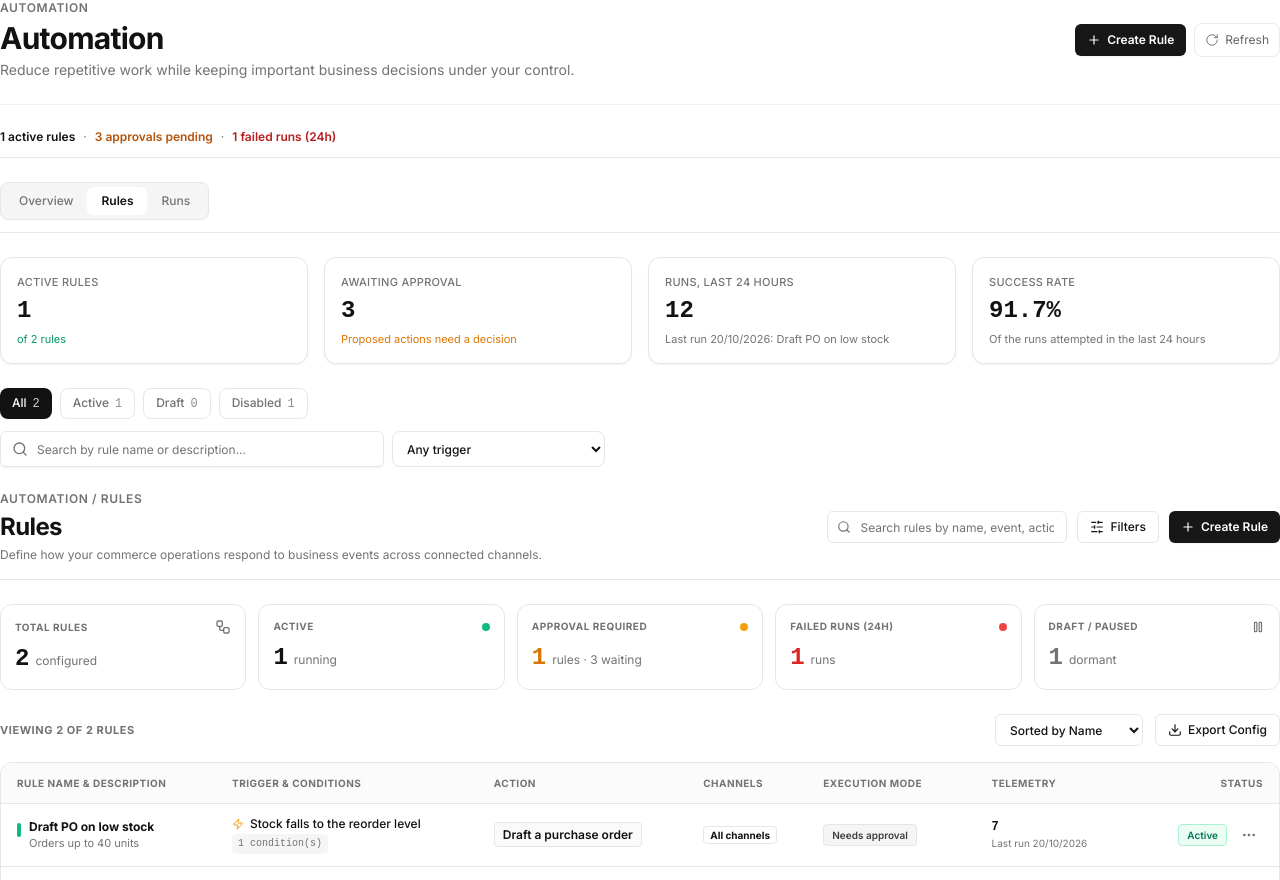
it: AutomationPage builder › shows server field errors on the parameter they belong to
Expected: the button "Draft PO on low stock" is shown, x1=29 y1=819 x2=154 y2=835
Click the 1st button "Create Rule" at (1131, 40), box x1=1075 y1=24 x2=1186 y2=56
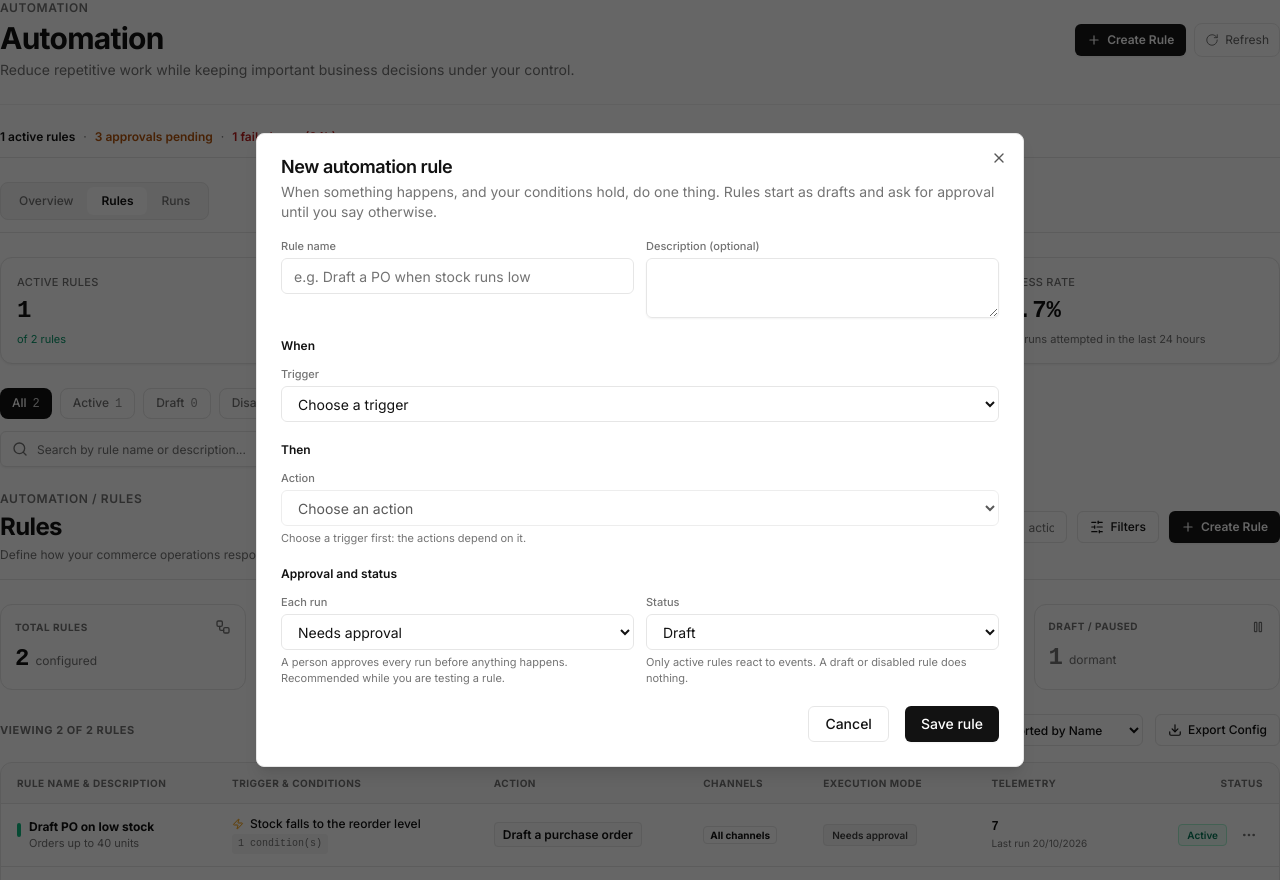
Type "Low stock PO" into the field labelled "Rule name" at (458, 276), box x1=281 y1=258 x2=634 y2=294
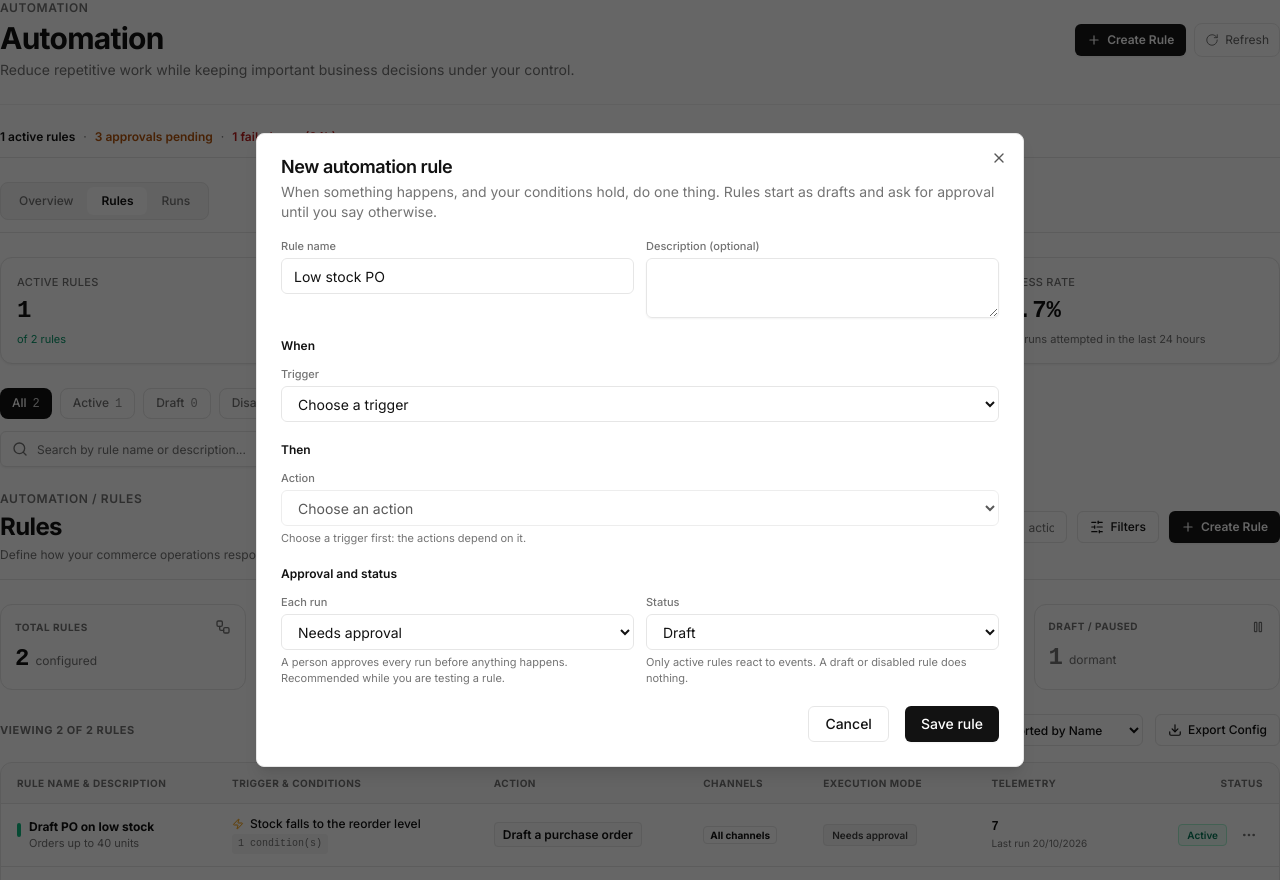
Select "Stock falls to the reorder level" in the dropdown labelled "Trigger" at (640, 404), box x1=281 y1=386 x2=999 y2=422
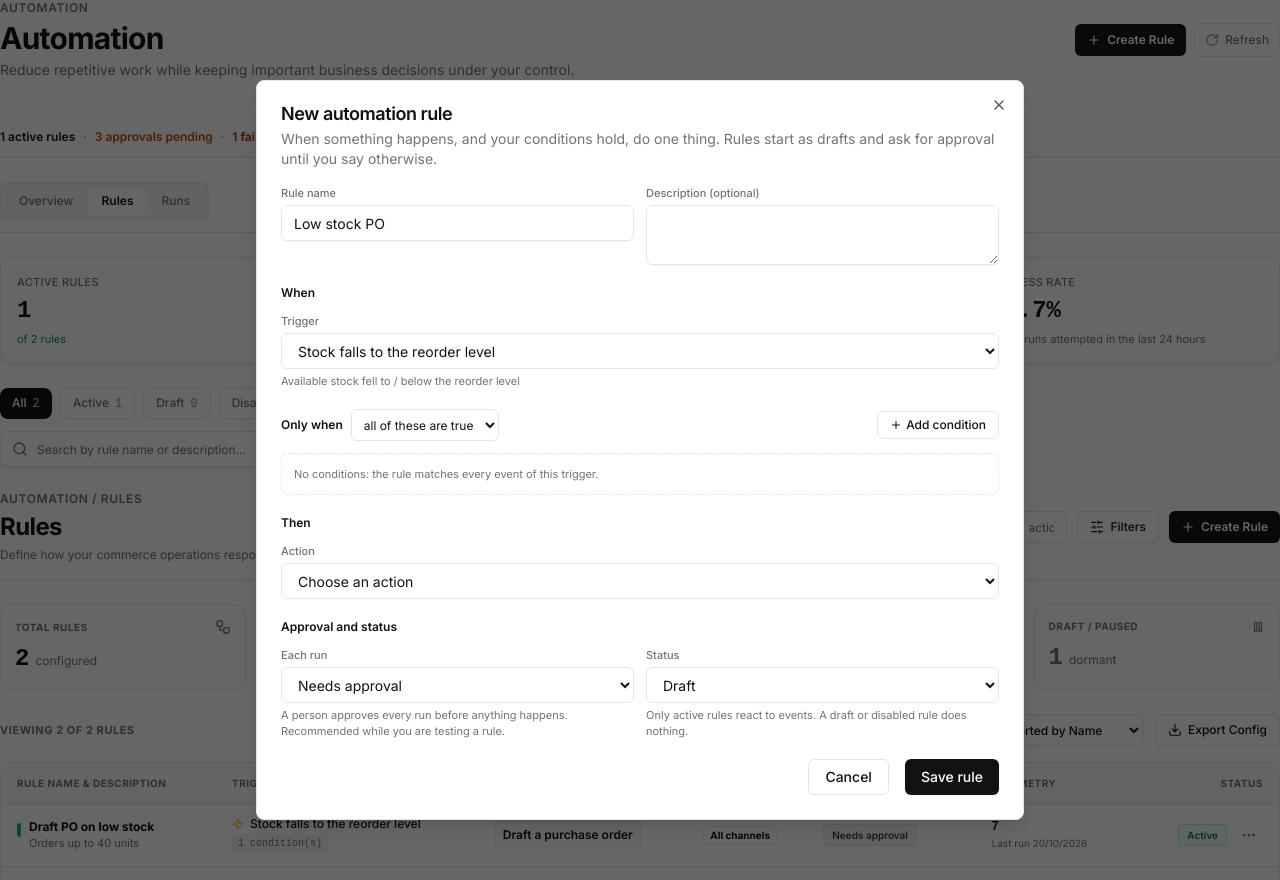
Select "Draft a purchase order" in the dropdown labelled "Action" at (640, 581), box x1=281 y1=563 x2=999 y2=599
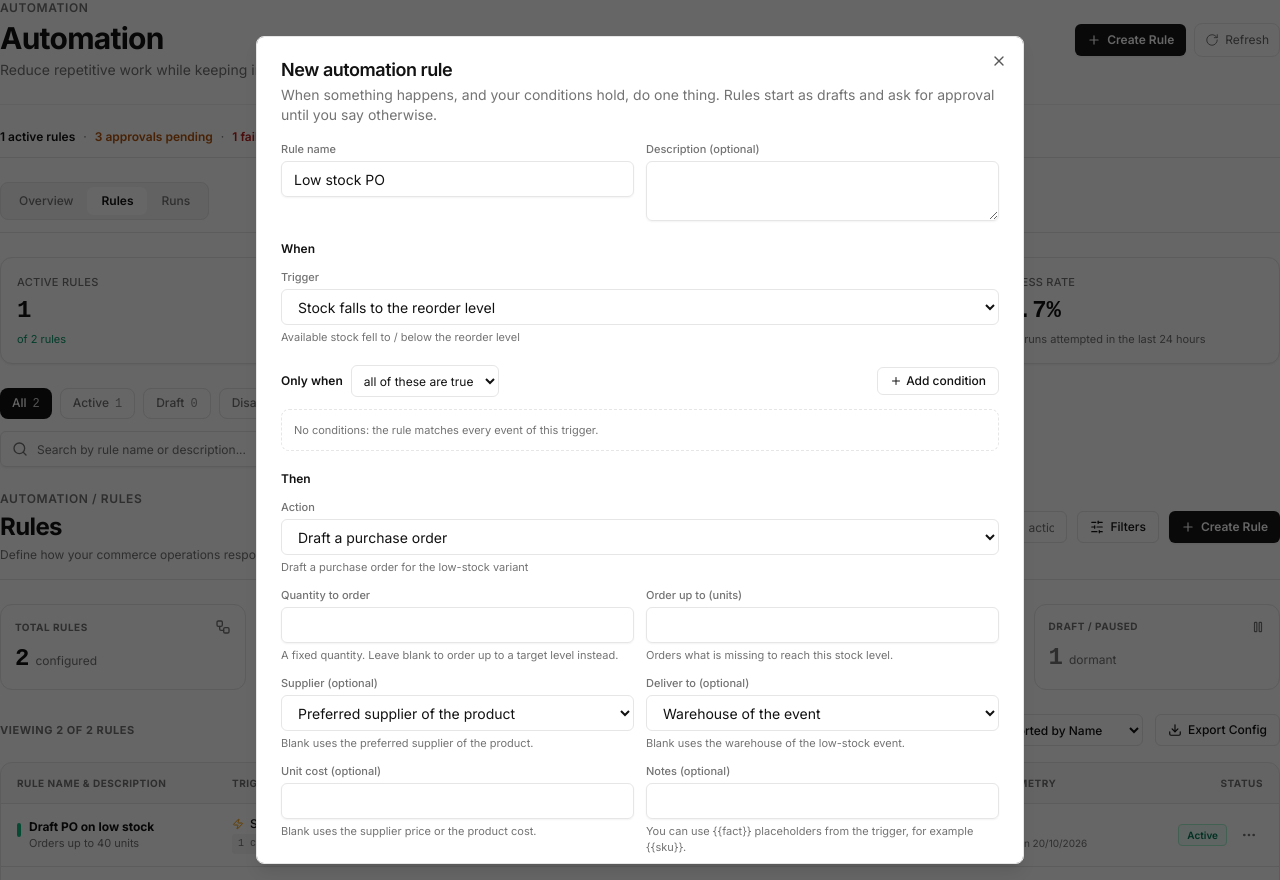
Type "40" into the field labelled "Order up to (units)" at (822, 625), box x1=646 y1=607 x2=999 y2=643
(page scrolled)
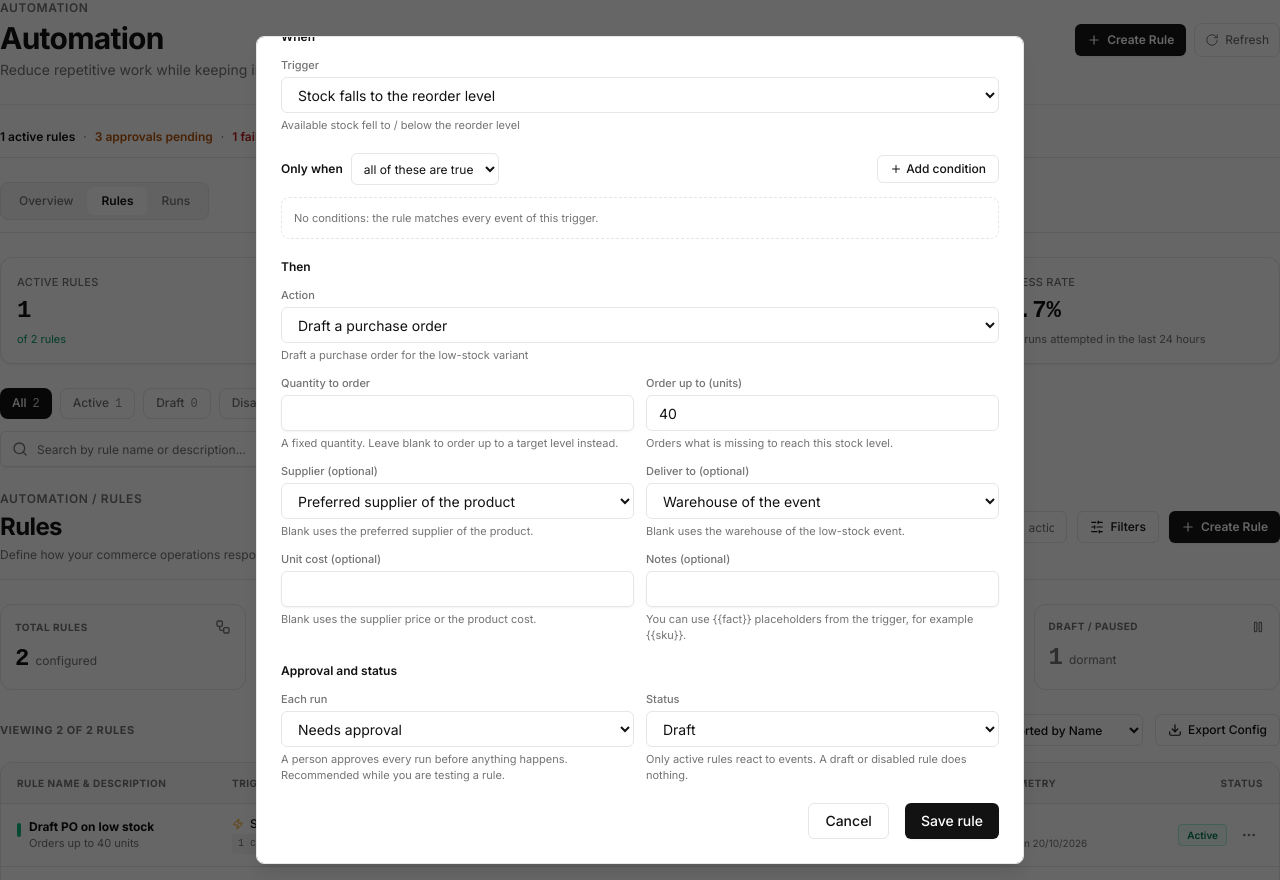
Click the button "Save rule" at (952, 821), box x1=905 y1=803 x2=999 y2=839
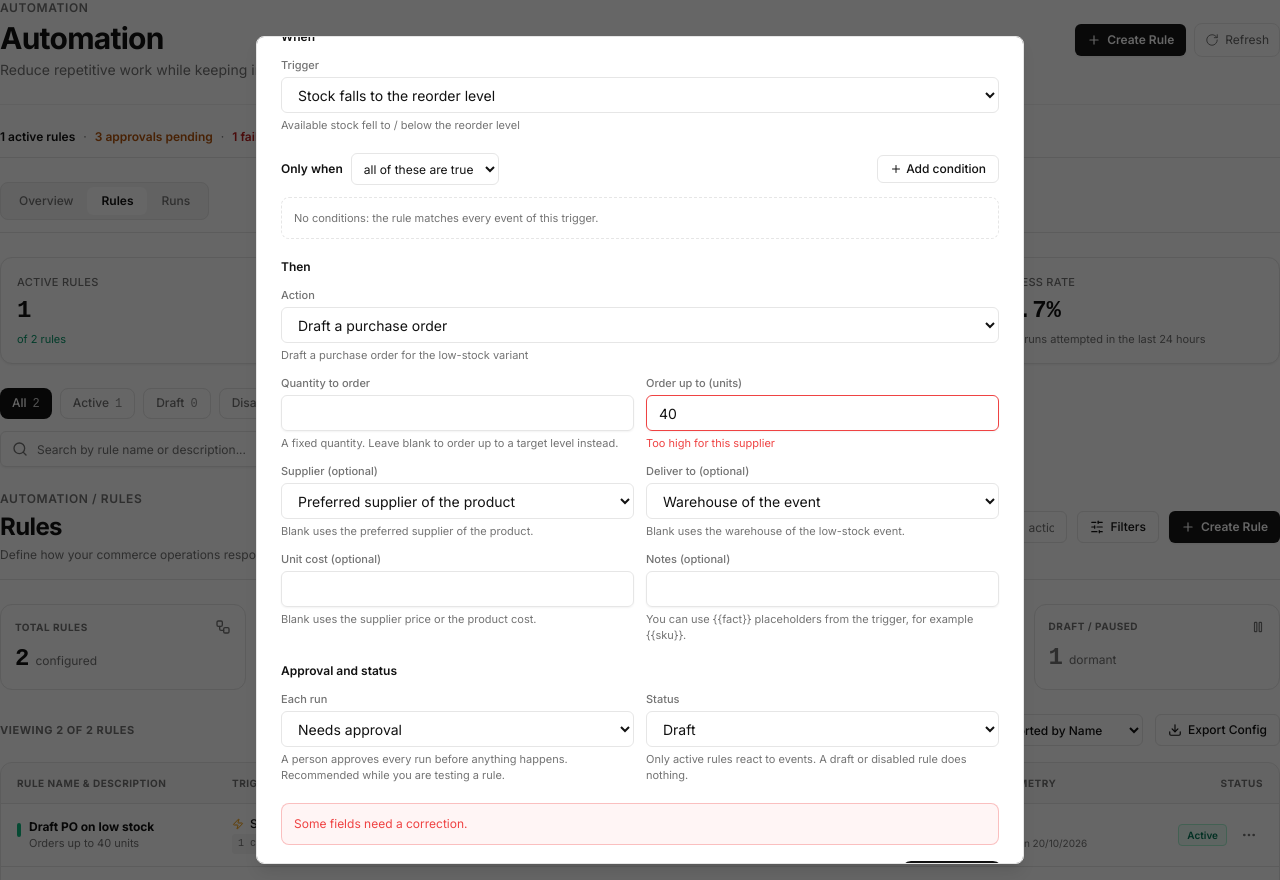
Expected: the text "Too high for this supplier" is shown, x1=646 y1=436 x2=775 y2=450
Expected: the text "Some fields need a correction." is shown, x1=281 y1=803 x2=999 y2=845
